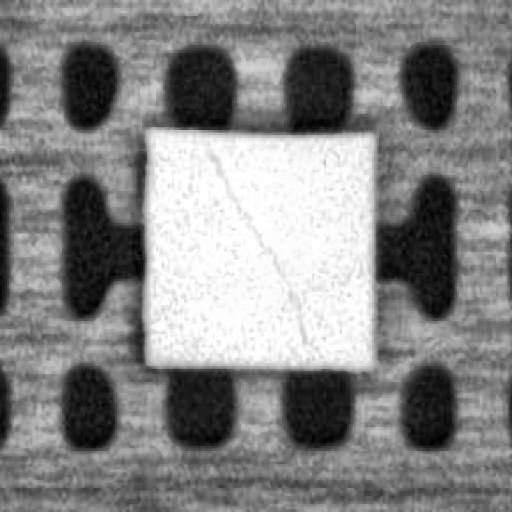DIE_CRACK: (206, 135, 300, 345)
